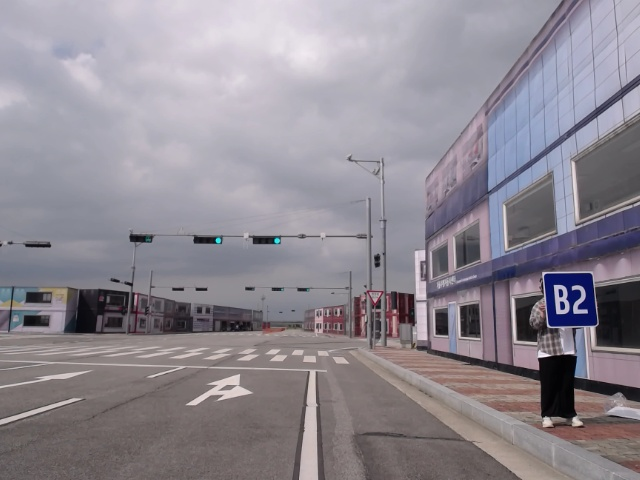delivery_b2: (540, 272, 601, 328)
straight_green_4: (193, 234, 224, 246), (251, 234, 281, 246), (296, 286, 312, 294), (271, 286, 287, 292)
